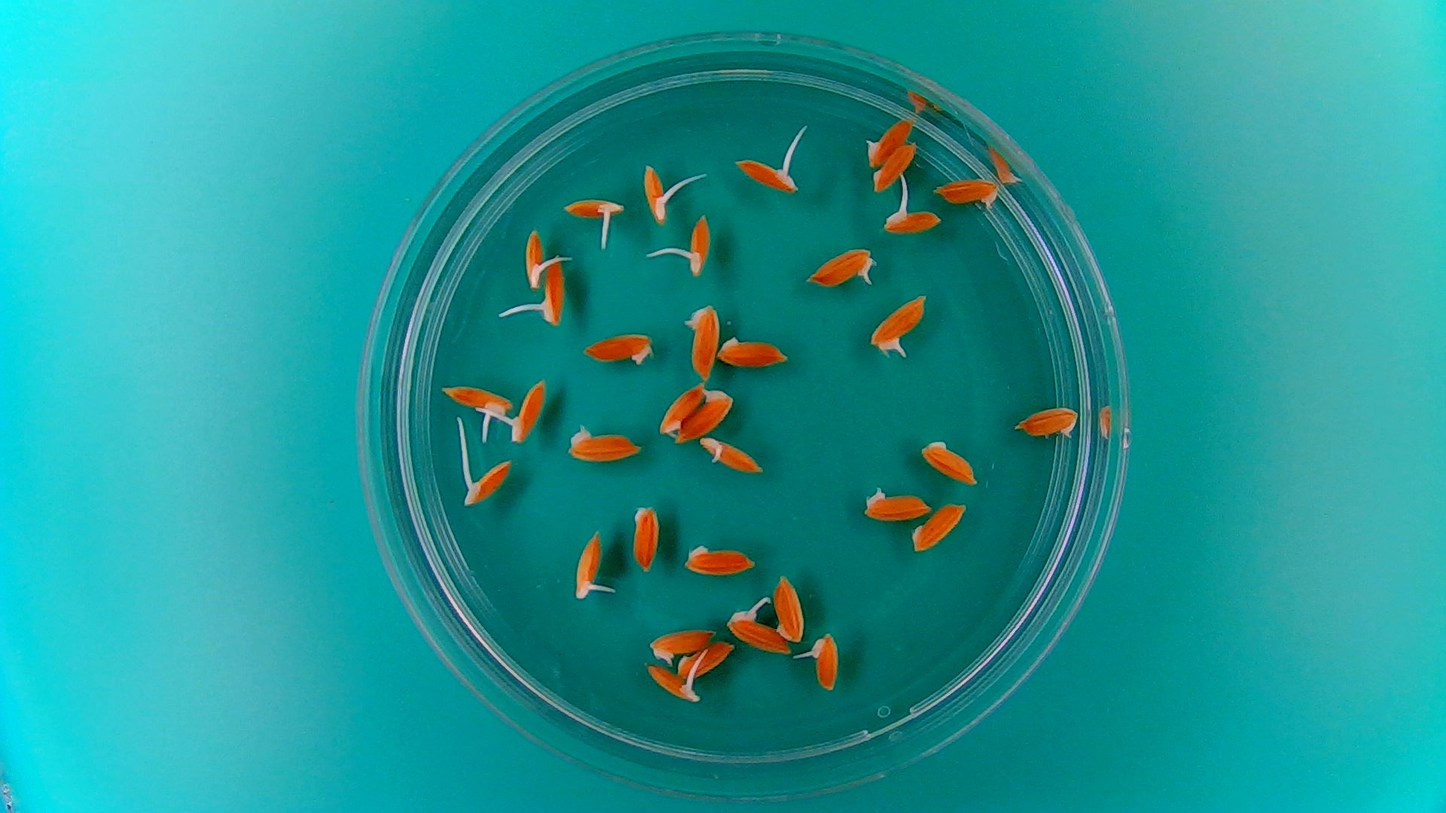no: (918, 434, 981, 489), (909, 499, 970, 555), (579, 327, 656, 369), (645, 623, 716, 667), (859, 483, 935, 523), (715, 331, 792, 370), (865, 111, 919, 166), (681, 540, 757, 579), (1011, 401, 1081, 442), (657, 379, 705, 437), (931, 171, 1002, 210), (773, 570, 808, 644), (871, 140, 917, 196), (677, 641, 738, 681), (630, 500, 662, 575)
yes: (436, 382, 515, 432), (675, 385, 737, 446), (868, 291, 929, 352), (801, 243, 877, 291), (564, 420, 646, 464), (679, 300, 721, 381), (506, 372, 551, 447), (697, 434, 767, 477), (531, 251, 569, 328), (459, 457, 514, 507), (642, 660, 703, 705), (732, 158, 803, 196), (725, 613, 792, 653), (560, 192, 627, 230), (639, 160, 676, 227), (679, 209, 712, 279), (805, 631, 842, 692), (573, 528, 603, 599), (520, 226, 549, 291), (878, 209, 945, 236)
